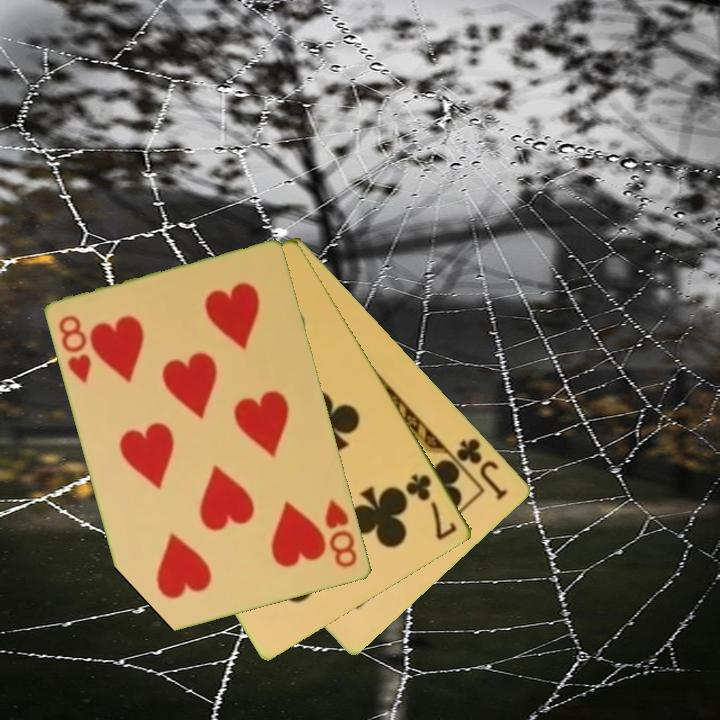7c: (402, 470, 461, 543)
8h: (55, 312, 95, 387), (322, 496, 361, 571)
Jc: (453, 434, 512, 503)
